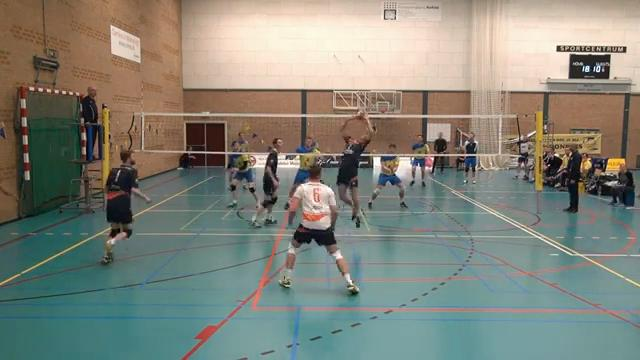Player: (279, 165, 358, 293), (101, 150, 150, 263), (251, 138, 282, 226), (285, 136, 319, 209), (368, 144, 406, 208), (227, 153, 258, 207), (410, 134, 428, 186), (228, 154, 239, 182)
Set: (335, 107, 377, 227)
ball: (355, 109, 368, 121)
